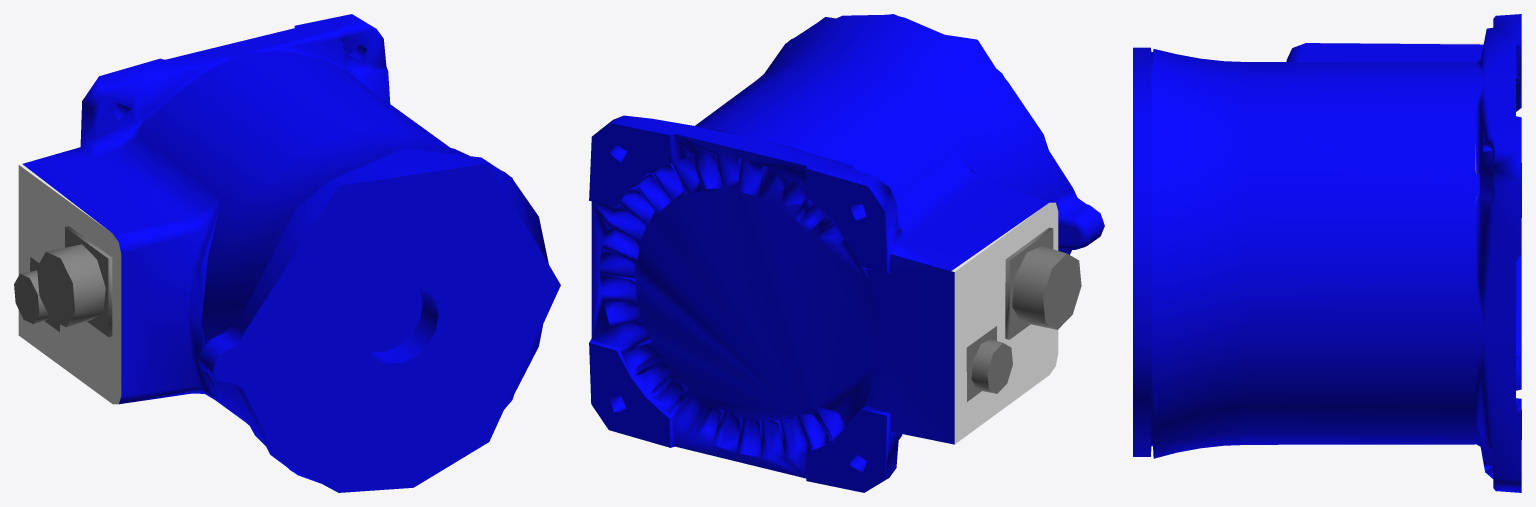
The picture shows the model from 3 angles, left to right: view 1: azimuth 30°, elevation 25°; view 2: azimuth 150°, elevation 25°; view 3: azimuth 270°, elevation 25°; orthographic projection. The views are drawn at different scales.
Visible parts, largest first — view 1: base_link.dae (×6); view 2: base_link.dae (×6); view 3: base_link.dae (×3).
Boxes of the visible parts, x1,y1,x2,y2 form: base_link.dae (×6): (14,14,560,492); base_link.dae (×6): (589,14,1104,492); base_link.dae (×3): (1133,14,1521,492).
Bounding box in the file's own units: 0.2731 × 0.2146 × 0.203.
